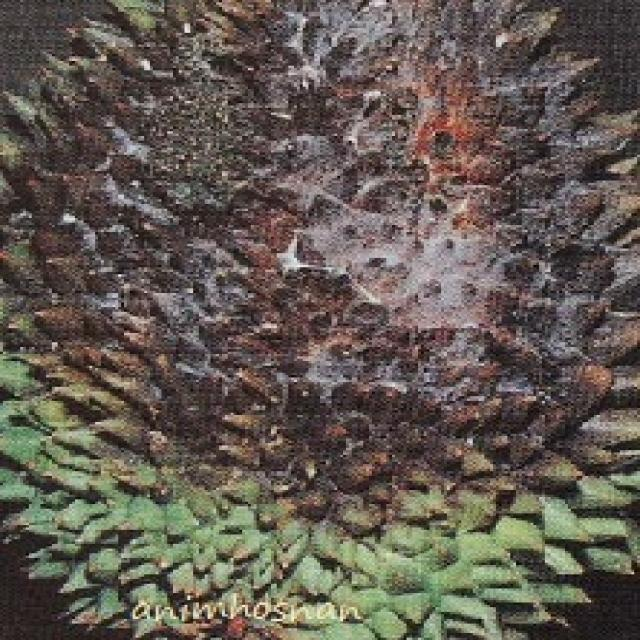defective: (0, 0, 640, 594)
